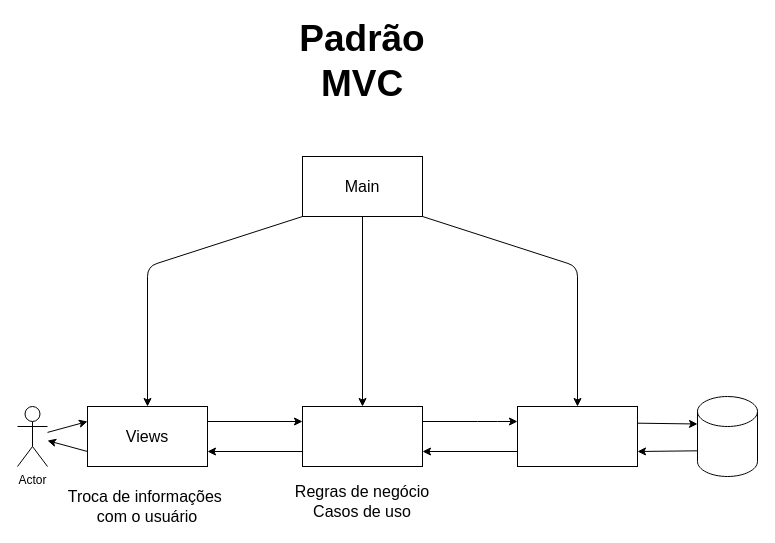
Image size: 775x543. Some labels were removed from this diagram. The shapes that lost their labels are listed below. From the top down, each one's box as (x1, y1, x2, y2) in pixels, then its label:
(302, 406, 422, 466): Controllers
(516, 406, 638, 466): Models
